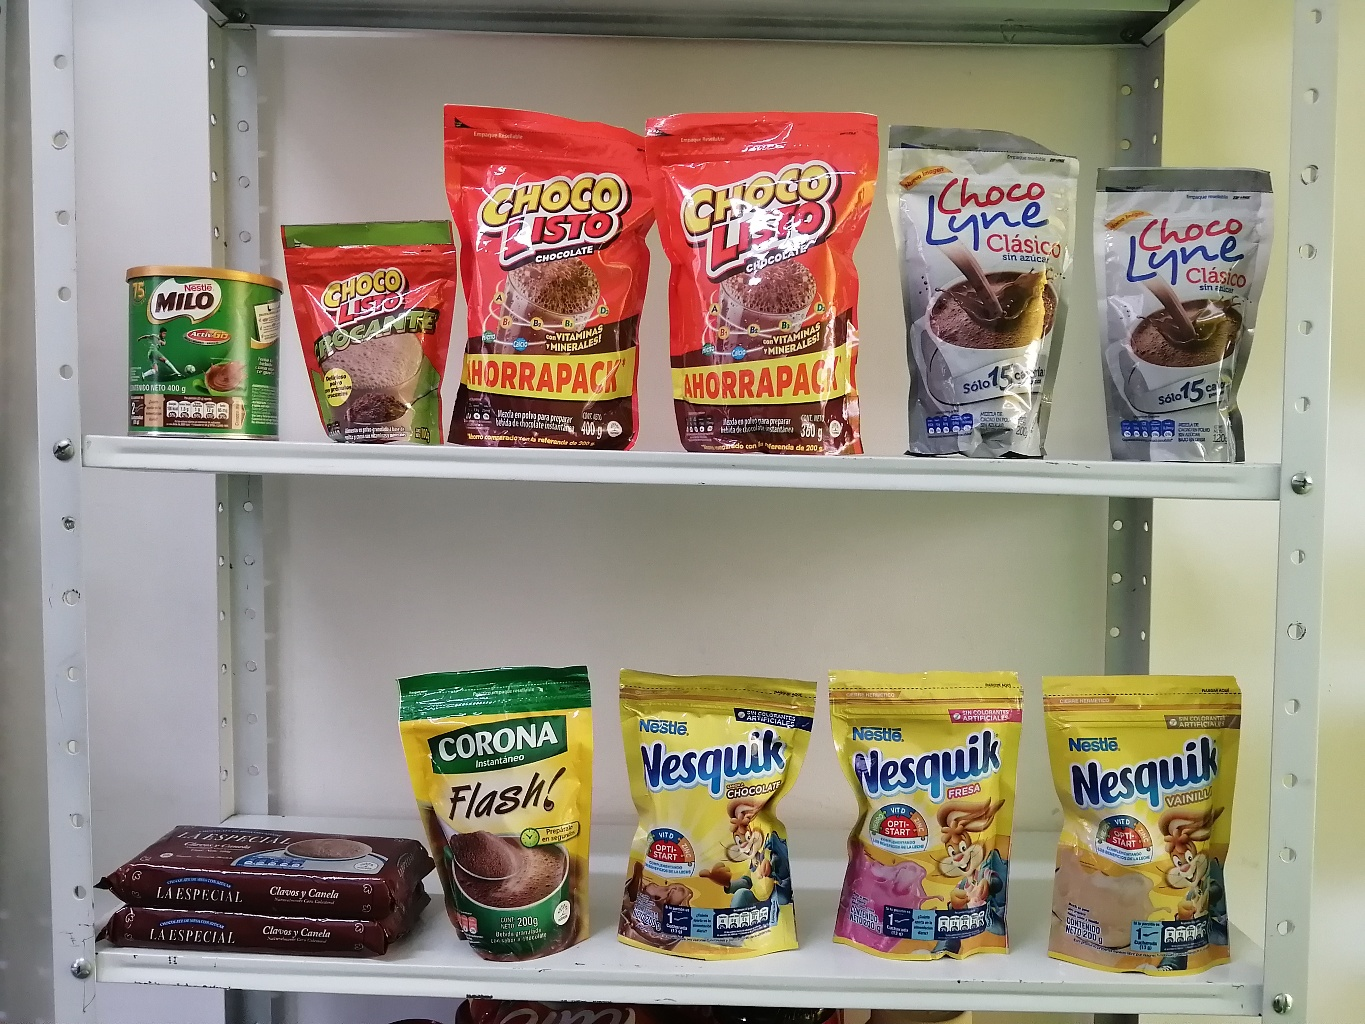COL0170102DYP10000: (269, 215, 464, 439)
COL0170103DYP36000: (642, 102, 902, 466)
COL0170103DYP40000: (422, 97, 657, 456)
COL0170203LAT40000: (124, 264, 292, 447)
COL0170303DYP20000: (612, 665, 817, 959)
COL0170305DYP20000: (823, 656, 1049, 967)
COL0170306DYP20000: (1038, 665, 1270, 979)
